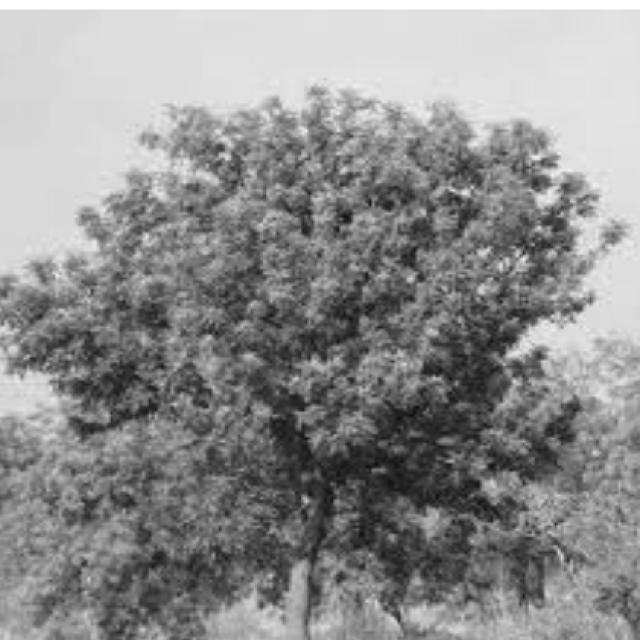Neem-Tree: (69, 88, 588, 640)
